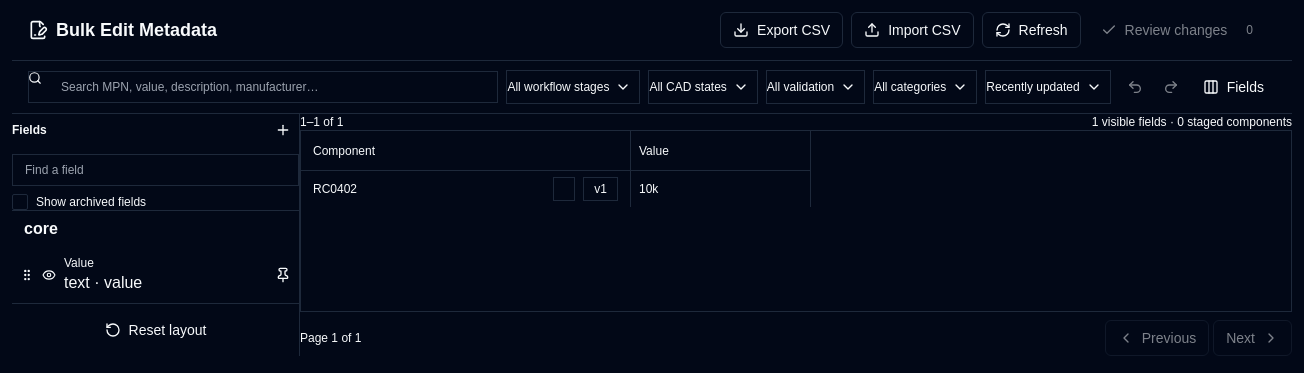
Test case: bulk edit cell drafting › seeds the draft from the committed value when the cell is activated
Focus the cell named "Value: 10k". click: (721, 189)
box: [631, 171, 811, 207]
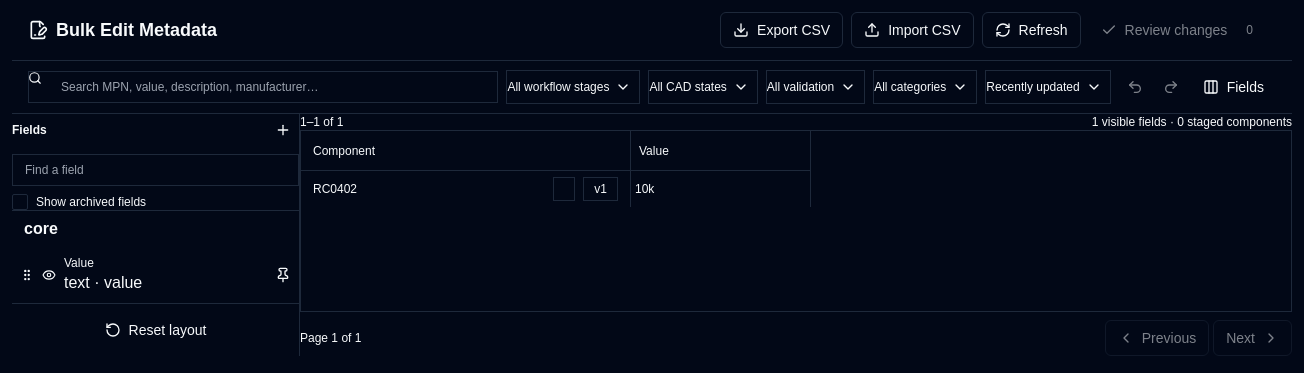
Now the field named "Value" holds "10k", box [635, 175, 806, 203]
